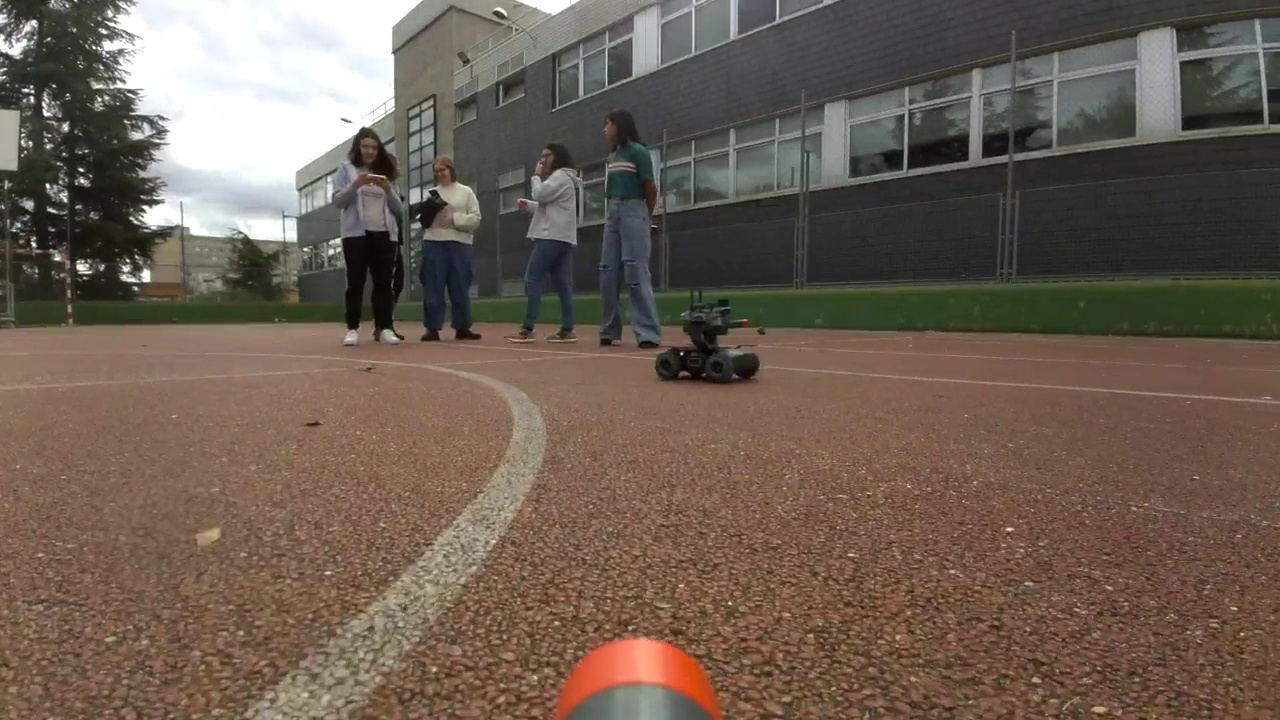robot: (656, 299, 760, 384)
